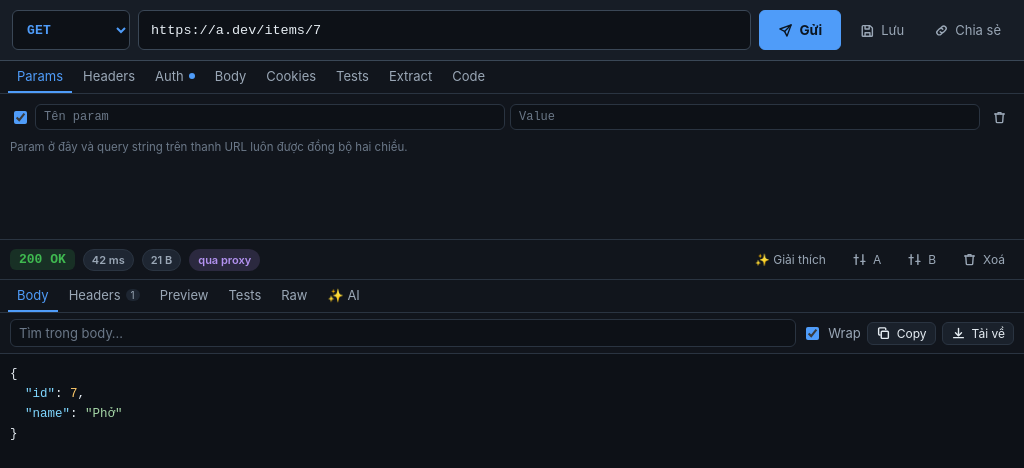
Scenario: AI in the panels › asks for the access code in code mode, then carries on
The width and height of the screenshot is (1024, 468).
Click the button "✨ Giải thích". click: (790, 260)
box: x1=746 y1=248 x2=835 y2=271
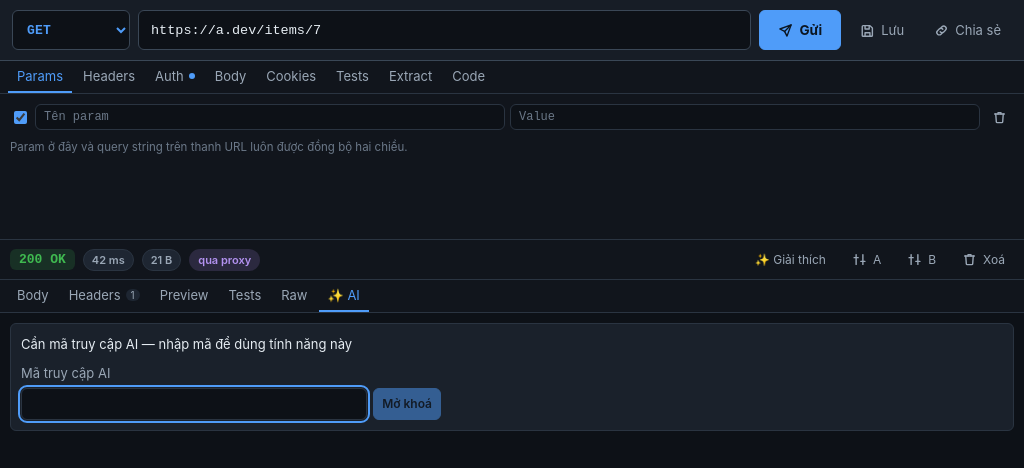
Type "mã-đúng" into the password field labelled "Mã truy cập AI". click: (194, 404)
box: x1=21 y1=388 x2=367 y2=420
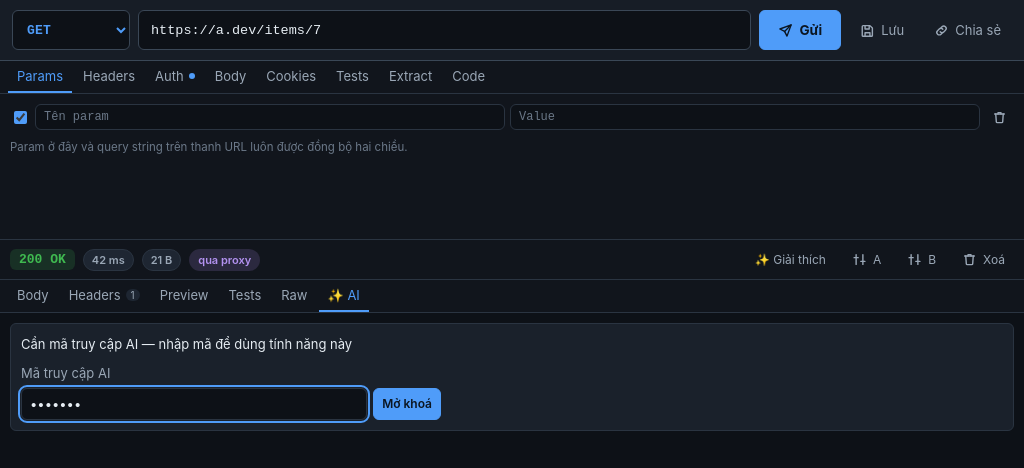
Click the button "Mở khoá". click: (407, 404)
box: x1=373 y1=388 x2=441 y2=420
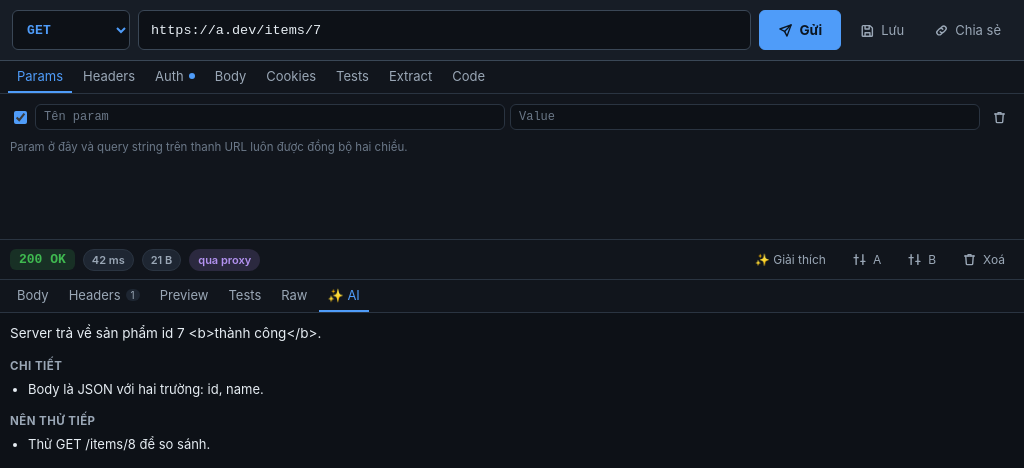
Expected: the text "Server trả về sản phẩm id 7 <b>thành công</b>." is shown, x1=10 y1=325 x2=321 y2=341
